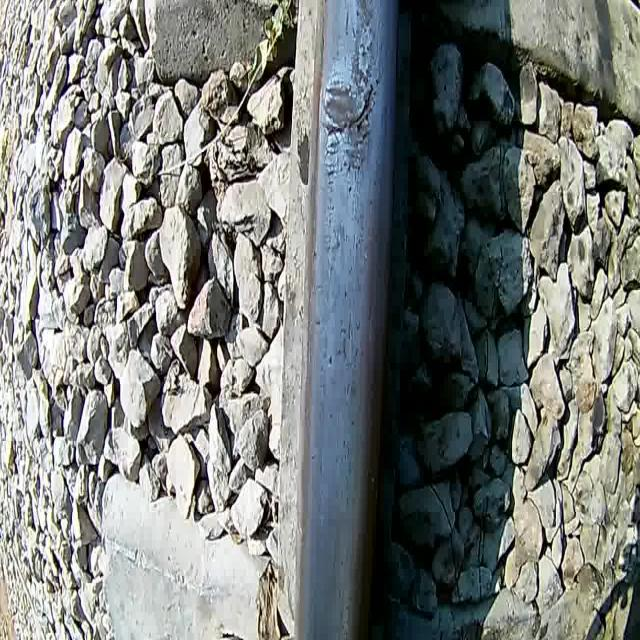Squats: (317, 66, 374, 176)
